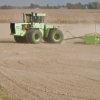Tractor: (11, 7, 85, 52)
